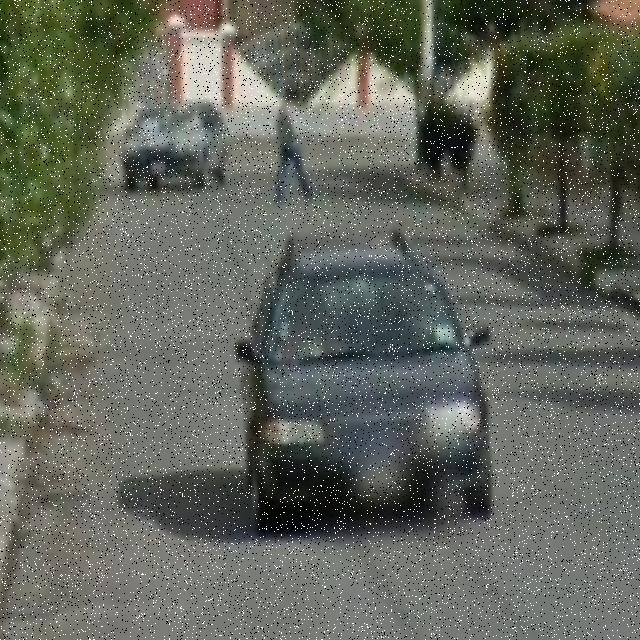cars: (244, 232, 495, 529), (105, 97, 235, 187)
